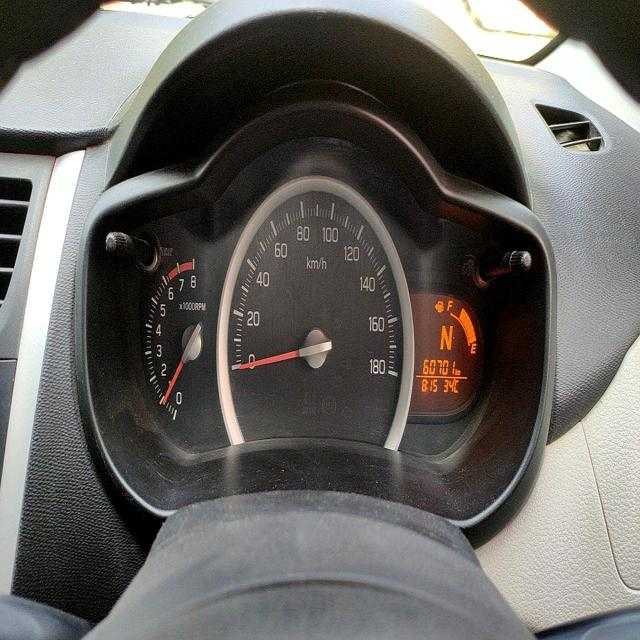odometer: (419, 353, 456, 377)
